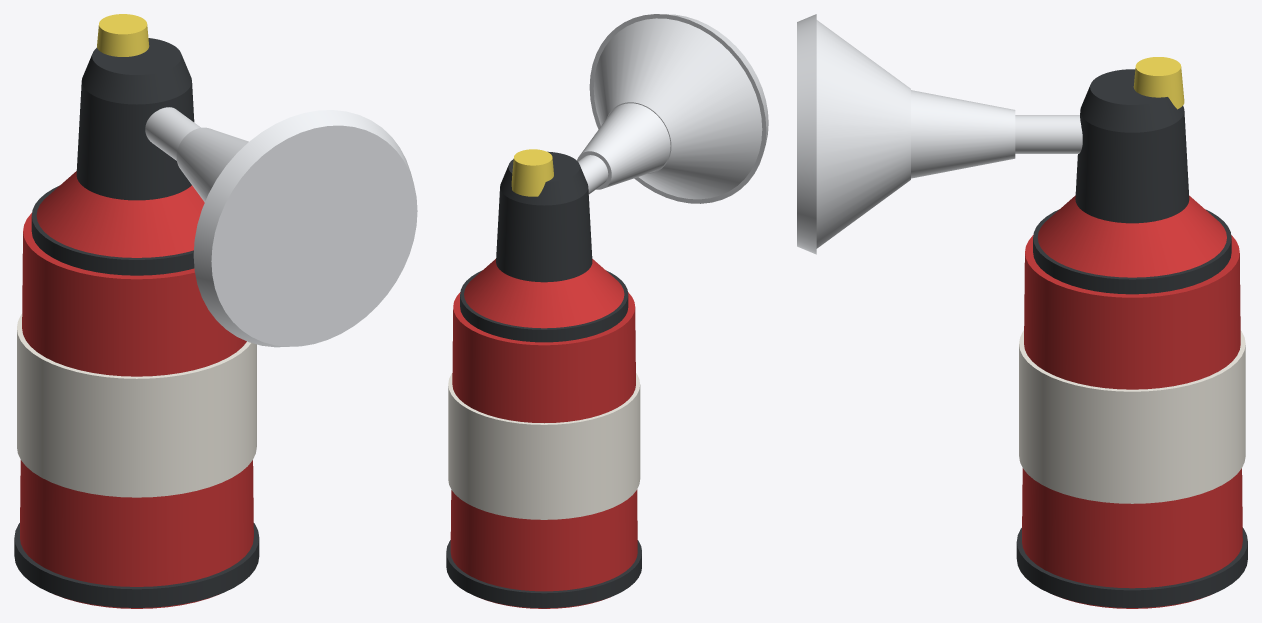
Rendered from airhorn.glb.
The picture shows the model from 3 angles, left to right: view 1: azimuth 30°, elevation 25°; view 2: azimuth 150°, elevation 25°; view 3: azimuth 270°, elevation 25°; orthographic projection. The views are drawn at different scales.
Parts seen in each view (by area): view 1: airhorn; view 2: airhorn; view 3: airhorn.
Boxes of the visible parts, <box> form: airhorn: <box>14,14,417,608</box>; airhorn: <box>446,14,768,608</box>; airhorn: <box>797,14,1247,608</box>.
Bounding box in the file's own units: 0.074 × 0.182 × 0.1385.
